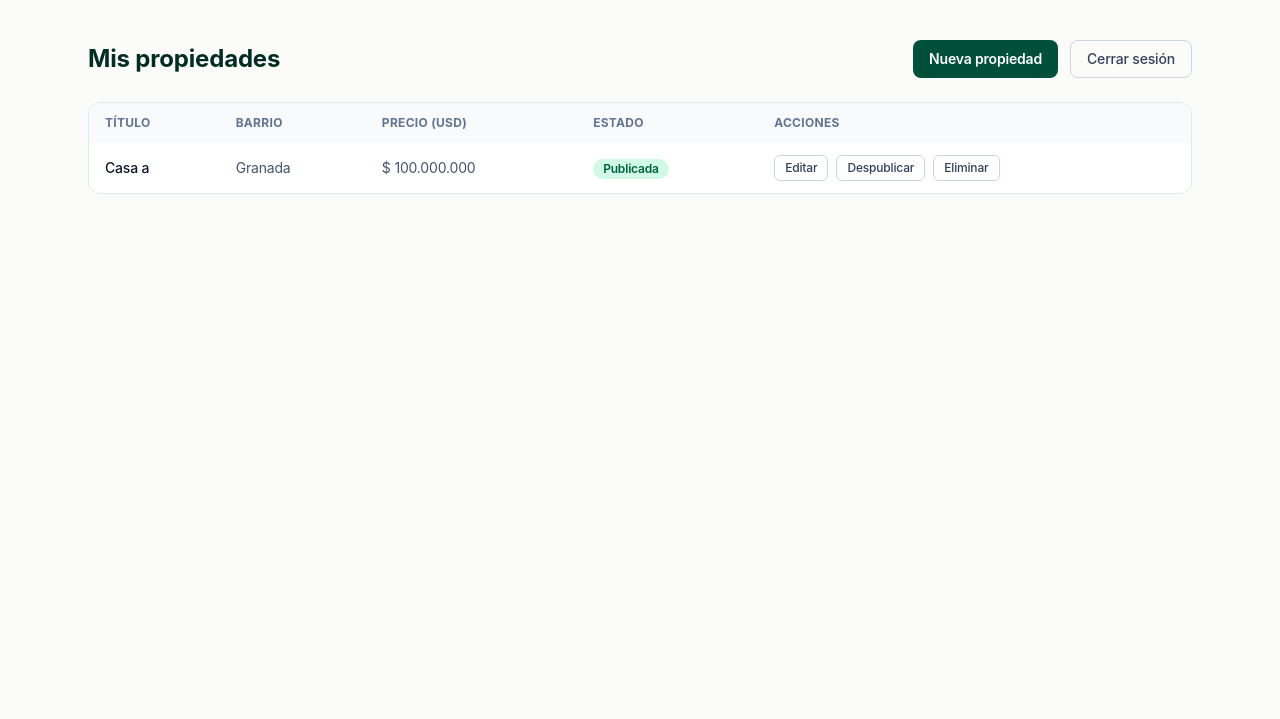
DashboardClient › opens the edit form prefilled
The image size is (1280, 719).
Expected: the text "Casa a" is shown, [105,159,149,176]
Step 1. Click the button "Editar" → point(801, 168), box [774,155,828,181]
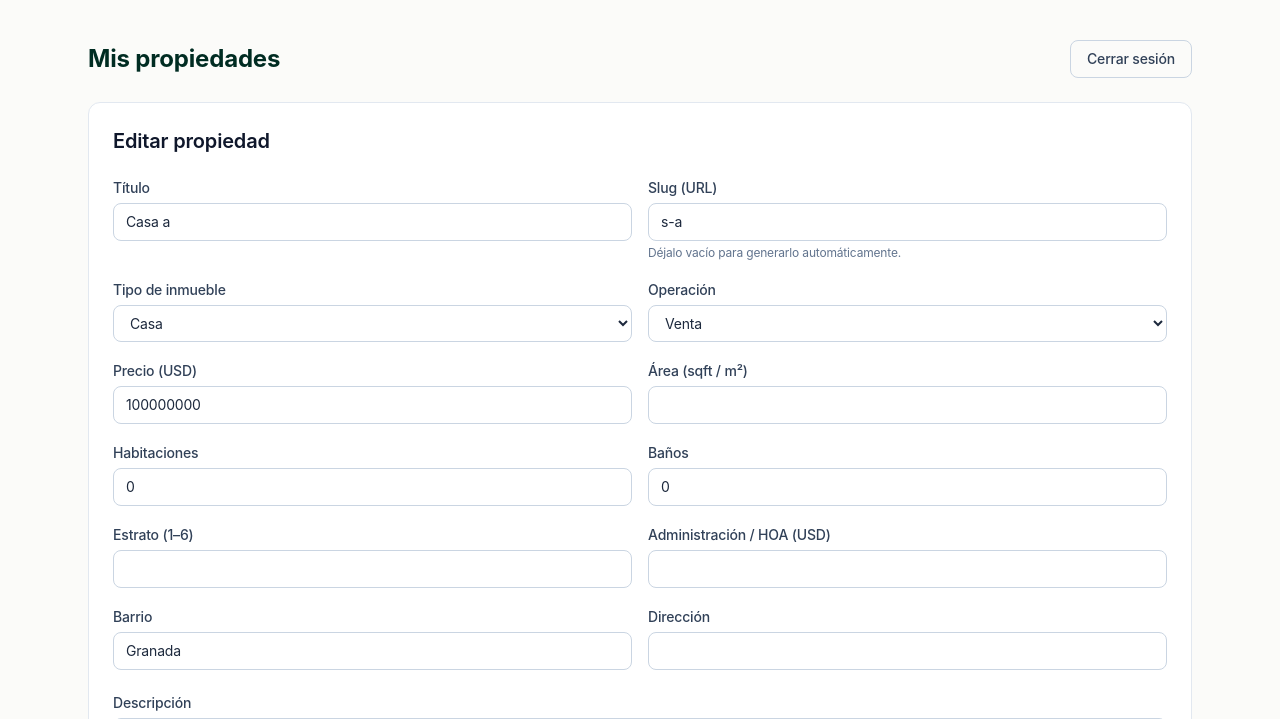
Expected: the field labelled "Título" holds "Casa a", [113,203,632,241]
